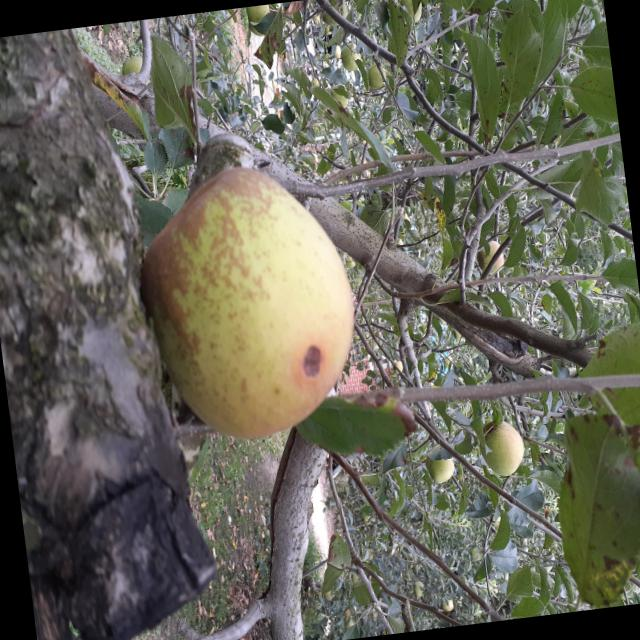rotten: (122, 150, 375, 460)
